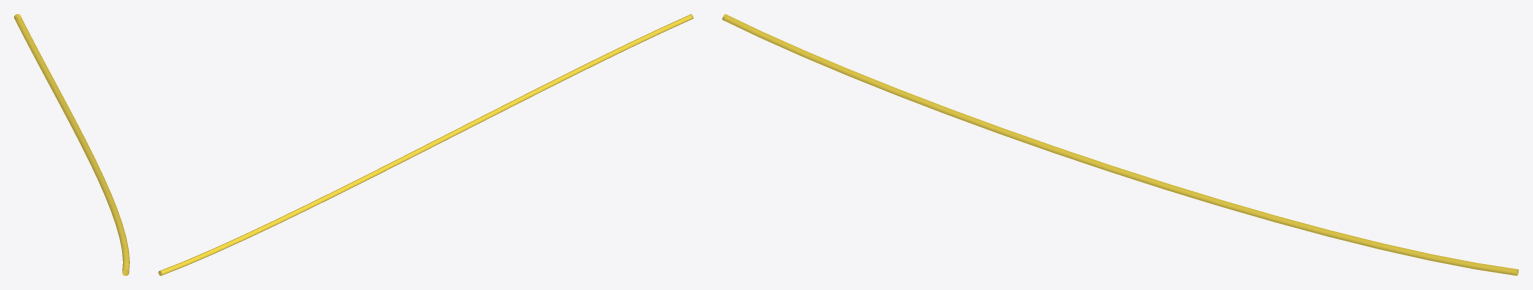
Rendered from Event_75125125_track_90.fbx.
3 renders of one model, left to right at view 1: azimuth 90°, elevation 25°; view 2: azimuth 210°, elevation 25°; view 3: azimuth 330°, elevation 25°, orthographic. The views are drawn at different scales.
Visible parts, largest first — view 1: Model; view 2: Model; view 3: Model.
Boxes of the visible parts, box(x1,y1,x2,y2) form: Model: box(14, 14, 129, 275); Model: box(158, 14, 693, 275); Model: box(722, 14, 1518, 275).
Size of the model in its own units: 5.03 by 0.7732 by 0.6611.
